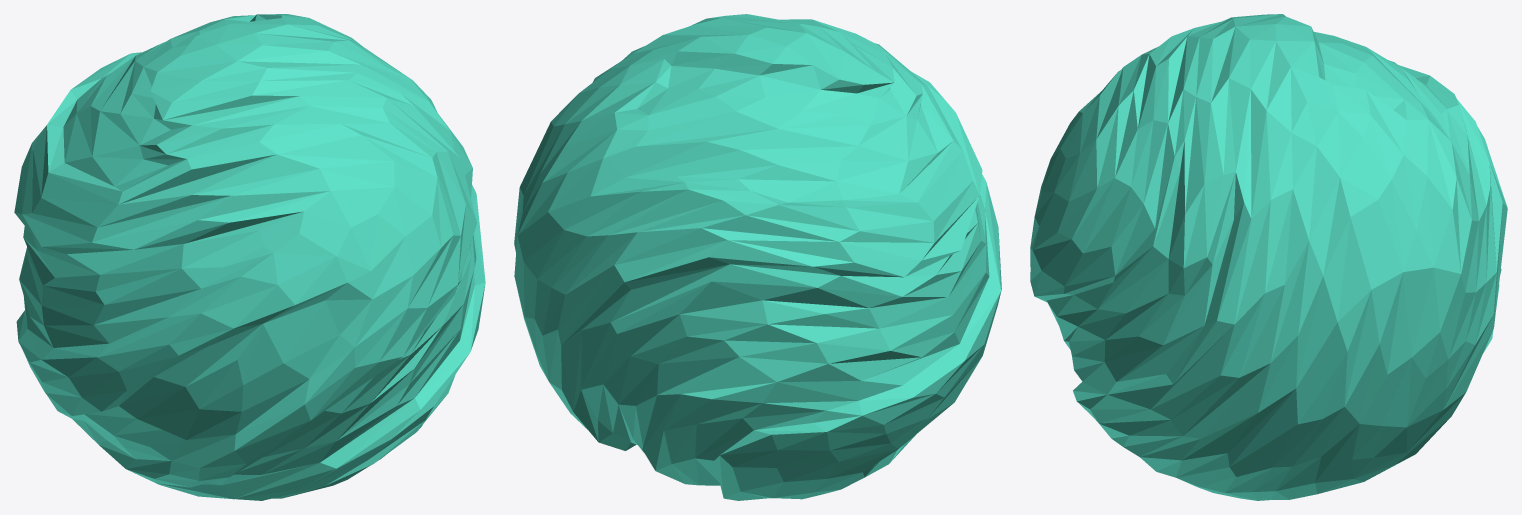
File: Pluto.obj
3 renders of one model, left to right at view 1: azimuth 30°, elevation 25°; view 2: azimuth 150°, elevation 25°; view 3: azimuth 270°, elevation 25°, orthographic.
Visible parts, largest first — view 1: Pluto; view 2: Pluto; view 3: Pluto.
Part boxes in pixels (x1,y1,x2,y2): Pluto: [14, 14, 485, 500]; Pluto: [514, 14, 1001, 500]; Pluto: [1030, 14, 1507, 500].
Bounding box in the file's own units: 34.21 × 34.65 × 33.94.
